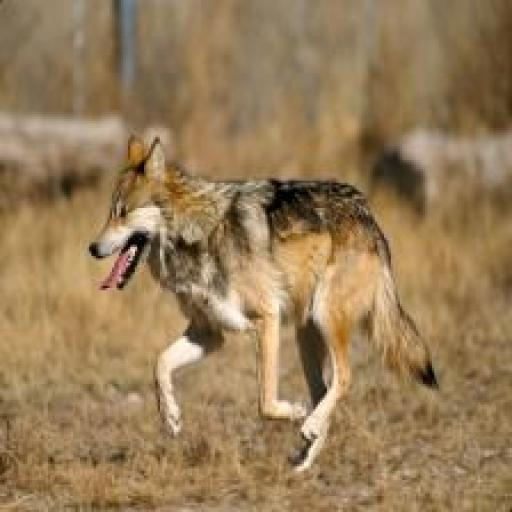wolf: (89, 126, 450, 481)
